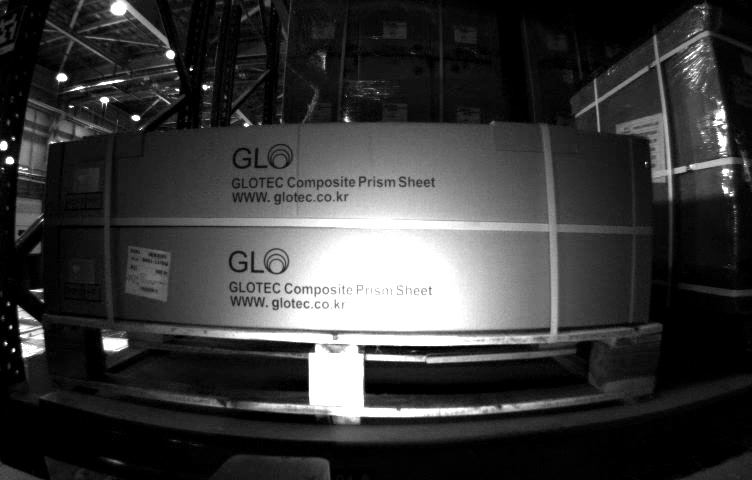True Barcode: (127, 243, 171, 303)
